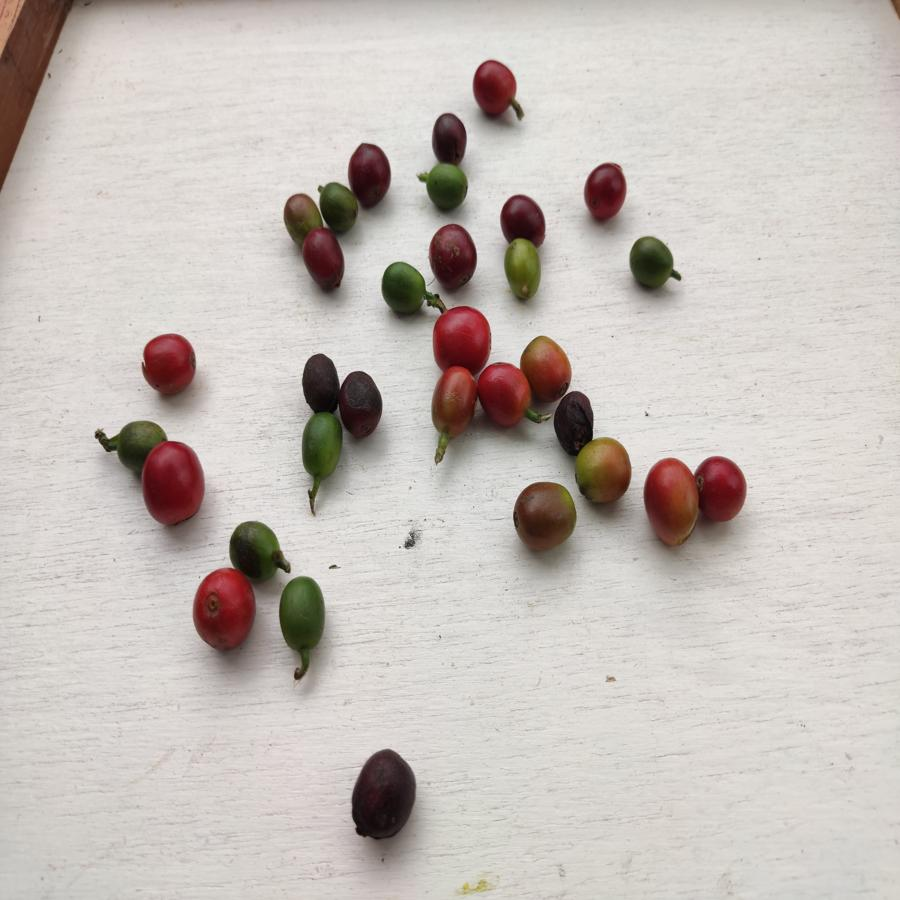Inmaduro: (278, 575, 328, 653), (225, 519, 286, 575), (298, 412, 343, 481), (380, 259, 429, 321), (625, 235, 679, 289), (422, 162, 474, 212), (317, 181, 358, 230), (112, 420, 146, 469)
Maduro: (141, 442, 207, 528), (192, 568, 256, 655), (643, 455, 700, 548), (136, 331, 200, 395), (433, 305, 495, 371), (695, 455, 748, 522), (478, 362, 532, 427), (474, 57, 518, 116)
Pinton: (512, 482, 578, 552), (570, 440, 636, 503), (520, 334, 577, 402), (431, 363, 476, 440), (505, 238, 547, 304), (282, 192, 322, 234)
Sobremaduro: (348, 748, 416, 841), (429, 222, 478, 288), (348, 137, 393, 207), (339, 372, 383, 440), (582, 161, 628, 222), (302, 229, 346, 291), (300, 354, 341, 412), (430, 109, 470, 162), (500, 193, 545, 238), (555, 391, 592, 444)
